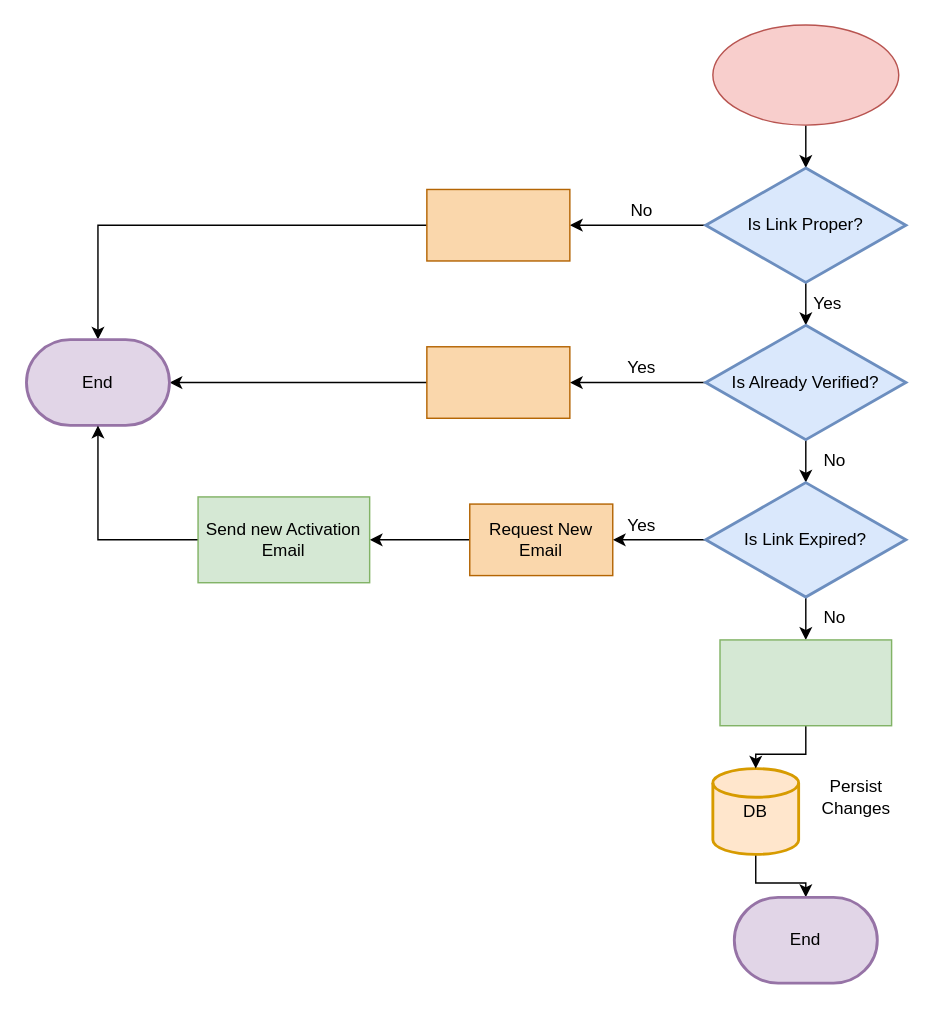
Image size: 931x1010. Some labels were removed from this diagram. The centre of each missing label's shape, as x and y in pixels:
Activate Account: [805,682]
Activate Link is Clicked: [805,74]
Show Already Verified: [497,381]
Show Invalid Link Error: [497,224]
